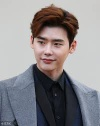male: (26, 6, 80, 87)
